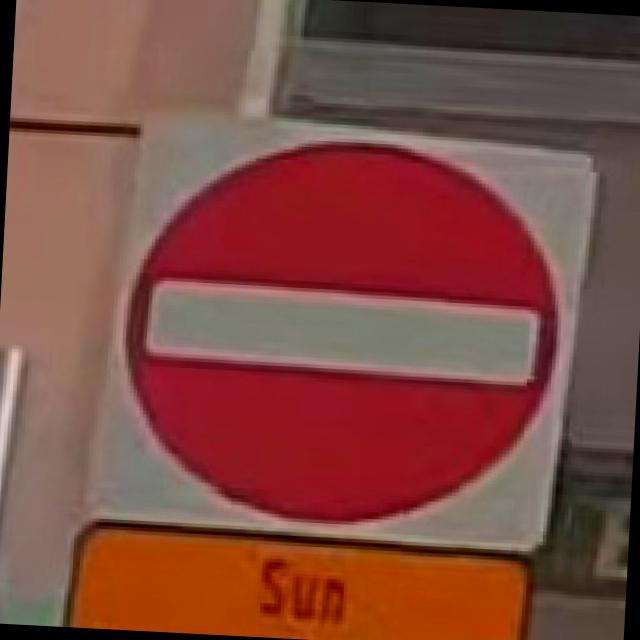noentry_sign: (92, 106, 595, 554)
